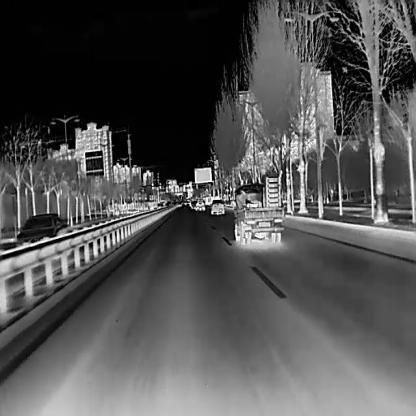car: (232, 174, 283, 244), (13, 211, 73, 260), (211, 198, 224, 215), (194, 199, 205, 211), (157, 202, 162, 209), (164, 202, 170, 207)
